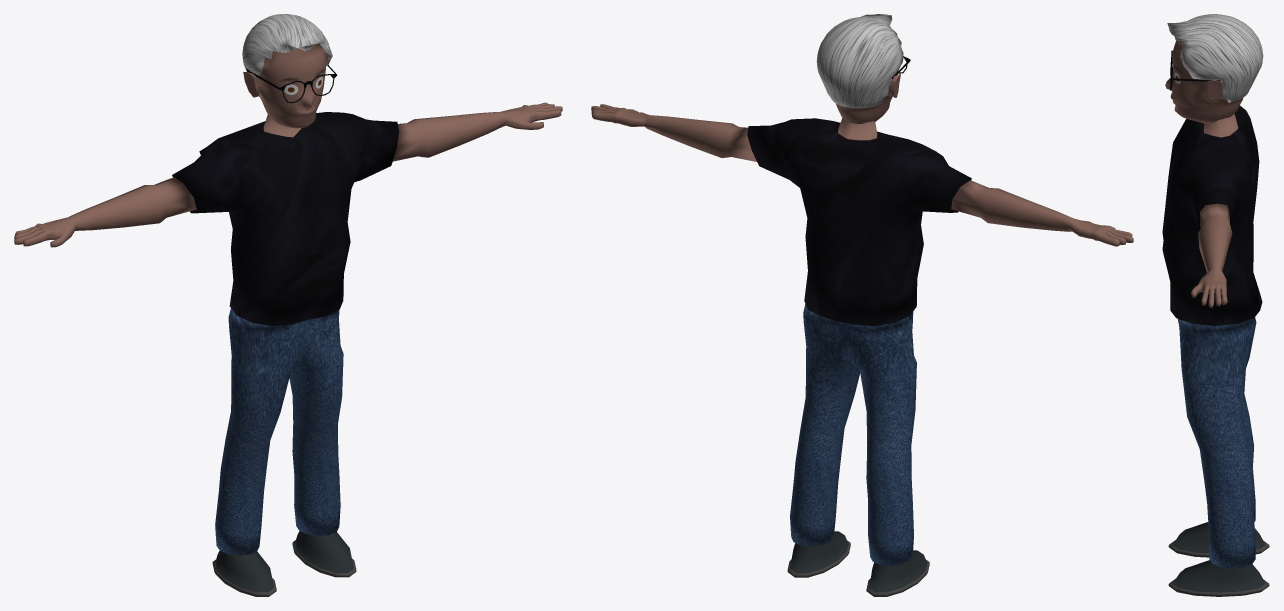
The model's file is blair.gltf.
3 renders of one model, left to right at view 1: azimuth 30°, elevation 25°; view 2: azimuth 150°, elevation 25°; view 3: azimuth 270°, elevation 25°, orthographic.
Visible parts, largest first — view 1: Sphere, Sphere.001; view 2: Sphere, Sphere.001; view 3: Sphere, Sphere.001, Torus.001.
Boxes of the visible parts, left/top/right/bottom form: Sphere: left=14, top=102, right=562, bottom=596; Sphere.001: left=242, top=14, right=332, bottom=128; Sphere: left=591, top=104, right=1133, bottom=596; Sphere.001: left=816, top=14, right=903, bottom=123; Sphere: left=1162, top=105, right=1269, bottom=596; Sphere.001: left=1165, top=14, right=1263, bottom=123; Torus.001: left=1170, top=50, right=1220, bottom=90.
Size of the model in its own units: 1.68 by 1.62 by 0.2853.
Materials: 1 (1 with a texture image).
